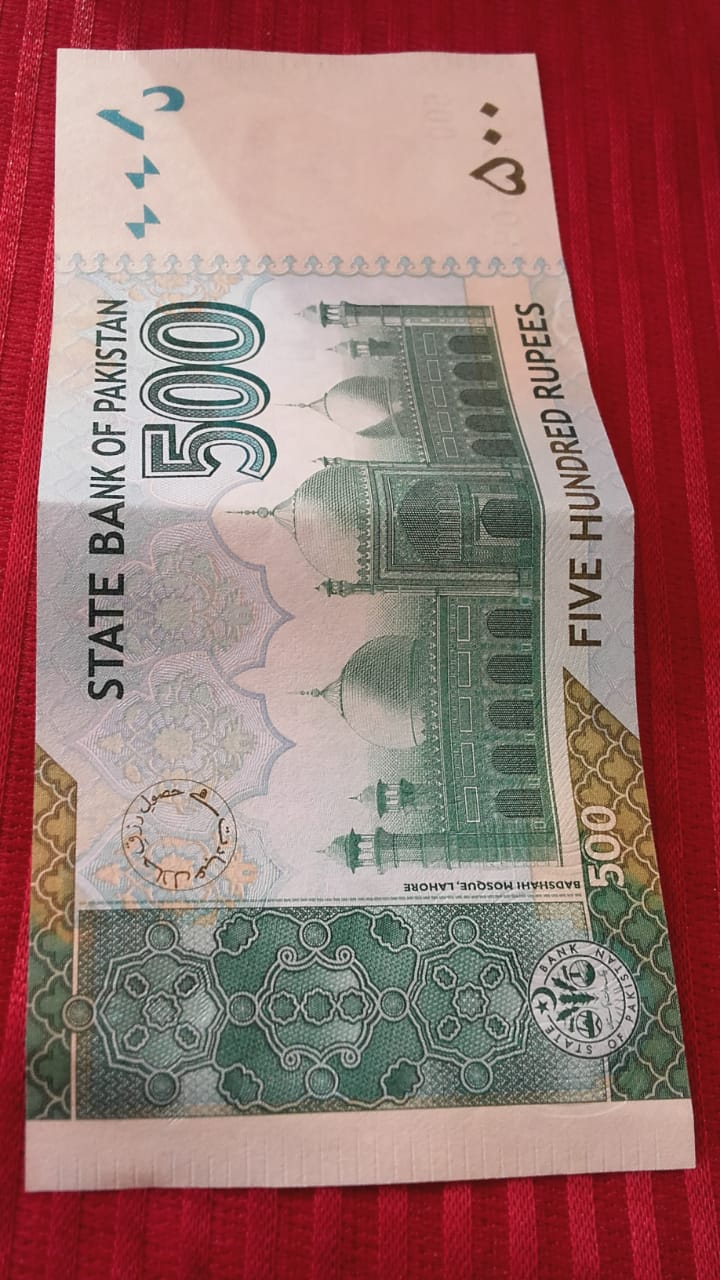500 rupee: (9, 46, 714, 1212)
